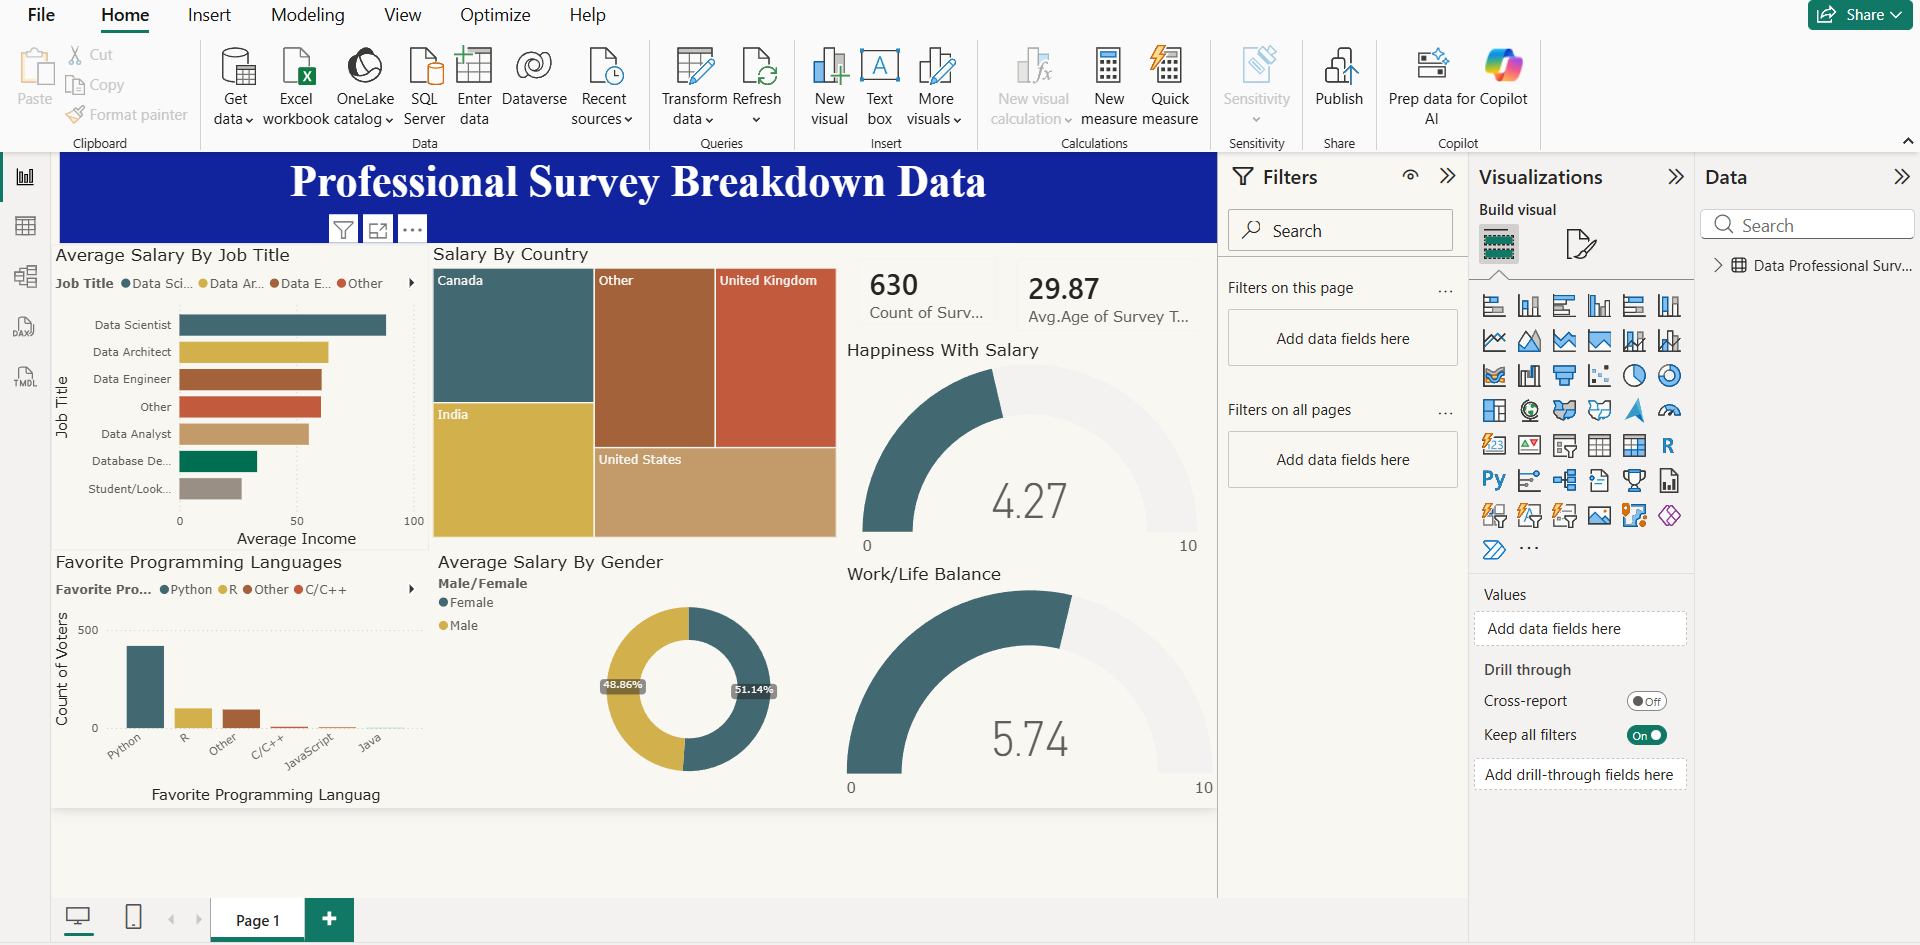

The dashboard page shown, as its layout file describes it:
{"tool":"powerbi","page":{"name":"Page 1","canvas":[1280,720],"ordinal":0},"visuals":[{"type":"textbox","box":[10,0,280,280],"z":0},{"type":"textbox","box":[9.6,0,1270.7,100.2],"z":1000},{"type":"cardVisual","fields":{"Data":["Count(Data Professional Survey.Unique ID)"]},"box":[868,99.6,187.9,106.6],"z":2000},{"type":"cardVisual","fields":{"Data":["Avg(Data Professional Survey.Q10 - Current Age)"]},"box":[1043.3,99.6,237,115],"z":3000},{"type":"barChart","title":"Average Salary By Job Title","fields":{"Category":["Data Professional Survey.Q1 - Which Title Best Fits your Current Role?.1"],"Y":["Avg(Data Professional Survey.Average Income)"],"Series":["Data Professional Survey.Q1 - Which Title Best Fits your Current Role?.1"]},"box":[0,101,415.1,336.5],"z":4000},{"type":"columnChart","title":"Favorite Programming Languages","fields":{"Category":["Data Professional Survey.Q5 - Favorite Programming Language.1"],"Y":["CountNonNull(Data Professional Survey.Unique ID)"],"Series":["Data Professional Survey.Q5 - Favorite Programming Language.1"]},"box":[0,437.5,415.1,281.9],"z":5000},{"type":"treemap","title":"Salary By Country","fields":{"Group":["Data Professional Survey.Q11 - Which Country do you live in?.1"],"Values":["Count(Data Professional Survey.Q11 - Which Country do you live in?.1)"]},"box":[415.1,99.6,452.9,328.1],"z":6000},{"type":"gauge","title":"Happiness With Salary","fields":{"Y":["Avg(Data Professional Survey.Q6 - How Happy are you in your Current Position with the following? (Salary))"],"MinValue":["Min(Data Professional Survey.Q6 - How Happy are you in your Current Position with the following? (Salary))"],"MaxValue":["Max(Data Professional Survey.Q6 - How Happy are you in your Current Position with the following? (Salary))"]},"box":[868,206.1,412.3,245.4],"z":7000},{"type":"gauge","title":"Work/Life Balance","fields":{"Y":["Avg(Data Professional Survey.Q6 - How Happy are you in your Current Position with the following? (Work/Life Balance))"],"MinValue":["Min(Data Professional Survey.Q6 - How Happy are you in your Current Position with the following? (Work/Life Balance))1"],"MaxValue":["Max(Data Professional Survey.Q6 - How Happy are you in your Current Position with the following? (Work/Life Balance))2"]},"box":[868,451.5,412.3,267.8],"z":8000},{"type":"donutChart","title":"Average Salary By Gender","fields":{"Category":["Data Professional Survey.Q9 - Male/Female?"],"Y":["Avg(Data Professional Survey.Average Income)"]},"box":[419.3,437.5,452.9,281.9],"z":9000}]}

Visuals, with their boxes on the page's 1280x720 design canvas (x1, y1, x2, y2). These are canvas units, not pixel positions in the 1920x945 screenshot, which may show the page scaled, cropped or inside an application window:
textbox: 10,0,290,280
textbox: 10,0,1280,100
cardVisual - Count(Data Professional Survey.Unique ID): 868,100,1056,206
cardVisual - Avg(Data Professional Survey.Q10 - Current Age): 1043,100,1280,215
"Average Salary By Job Title" barChart: 0,101,415,438
"Favorite Programming Languages" columnChart: 0,438,415,719
"Salary By Country" treemap: 415,100,868,428
"Happiness With Salary" gauge: 868,206,1280,452
"Work/Life Balance" gauge: 868,452,1280,719
"Average Salary By Gender" donutChart: 419,438,872,719
